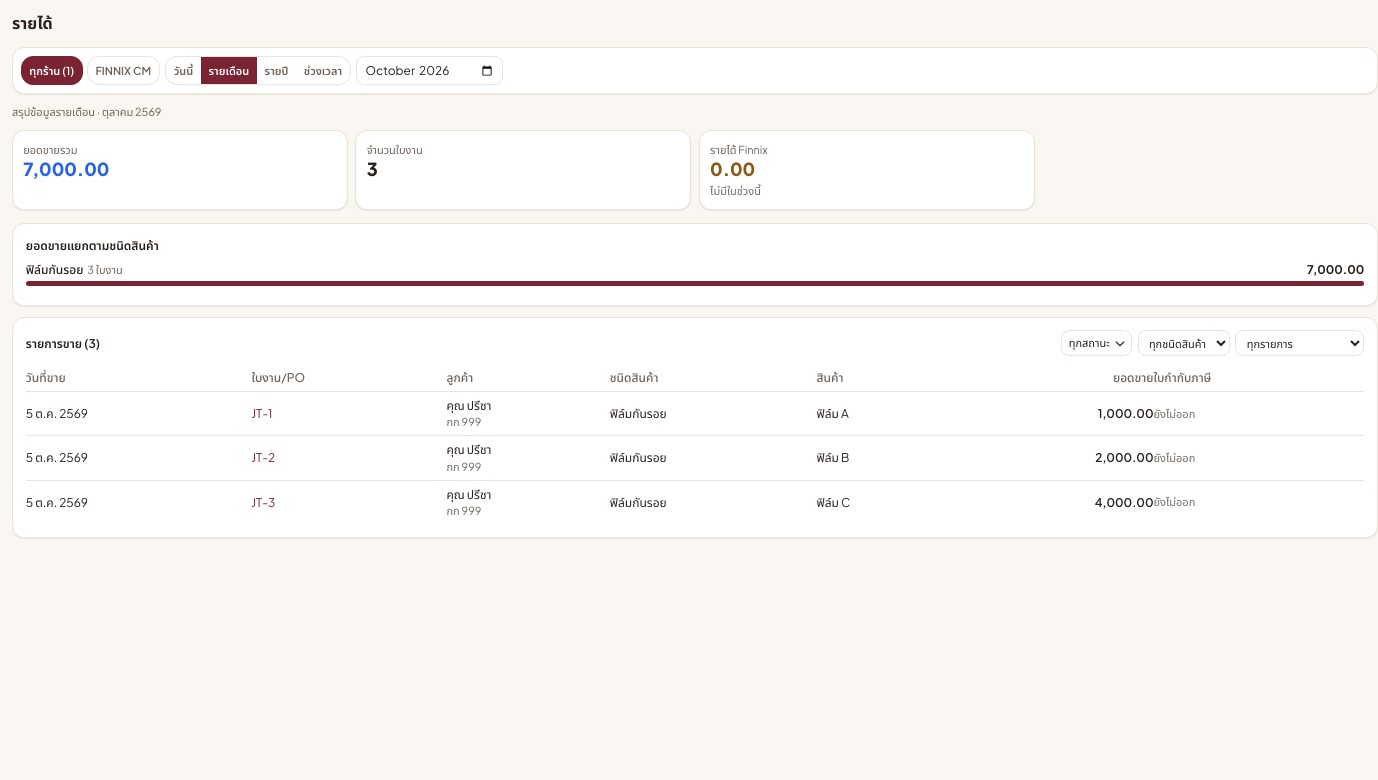
Test case: RevenueModule — กรองตามสถานะงาน › เลือกสองสถานะพร้อมกัน ได้ทั้งสอง
Click the button with aria-label "กรองตามสถานะงาน".
click(1097, 343)  # box [1061,330,1132,356]
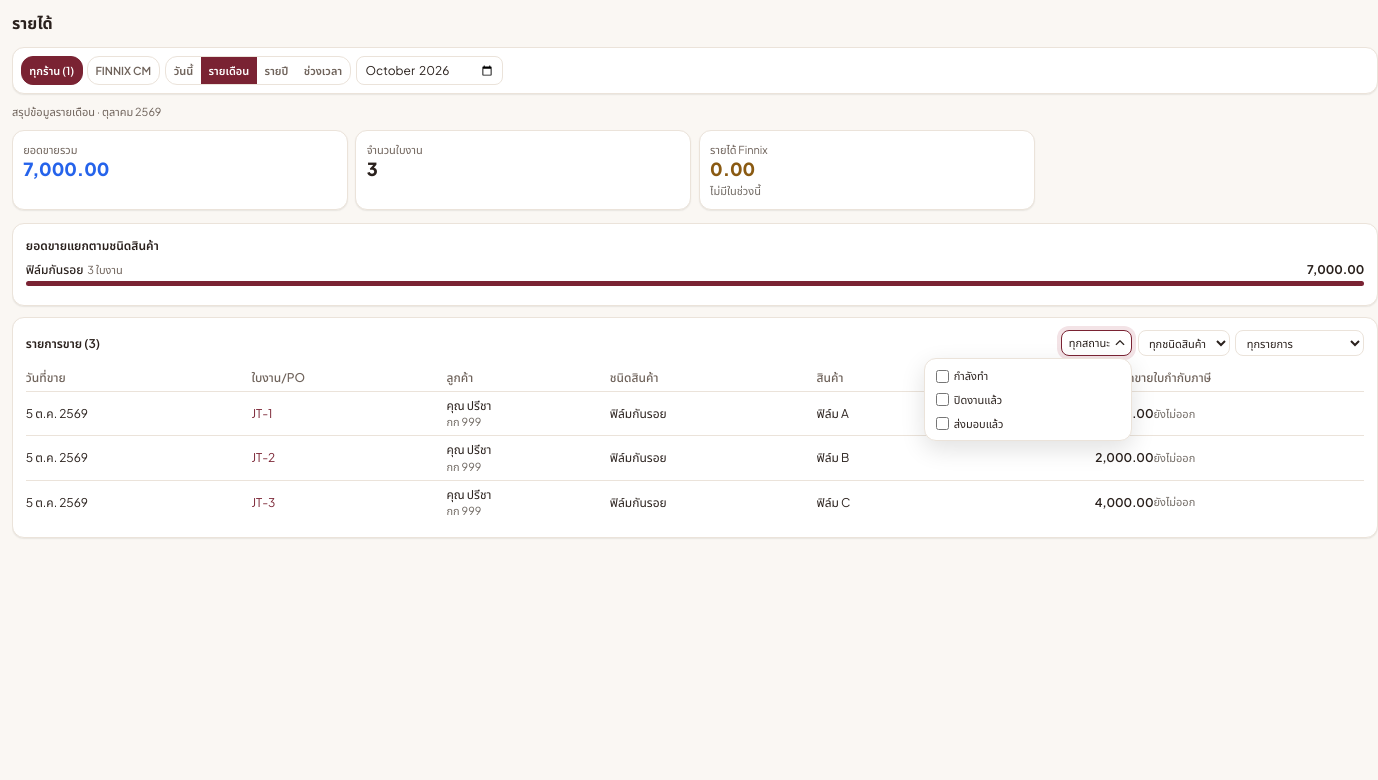
Click the checkbox labelled "ส่งมอบแล้ว".
click(942, 423)  # box [936,417,949,430]
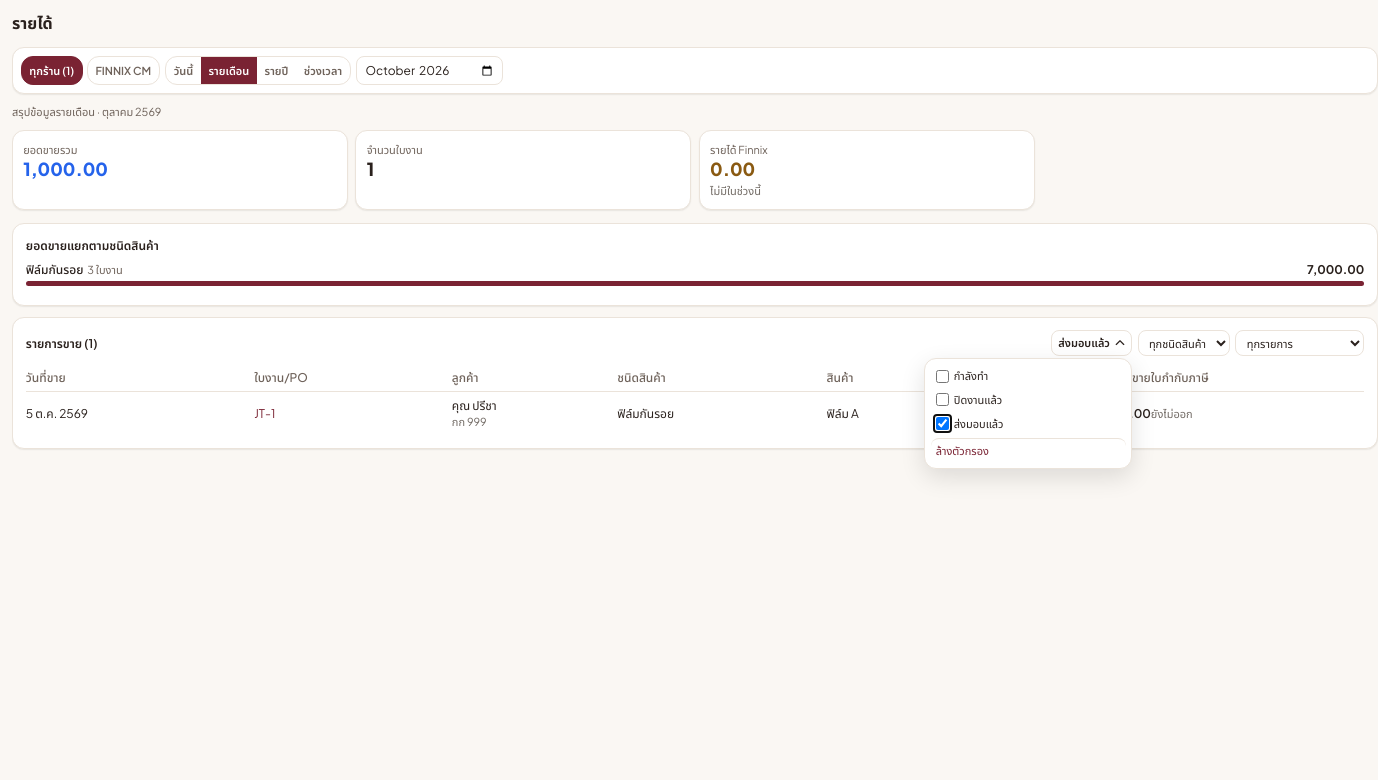
Click the checkbox labelled "ปิดงานแล้ว".
click(942, 400)  # box [936,393,949,406]
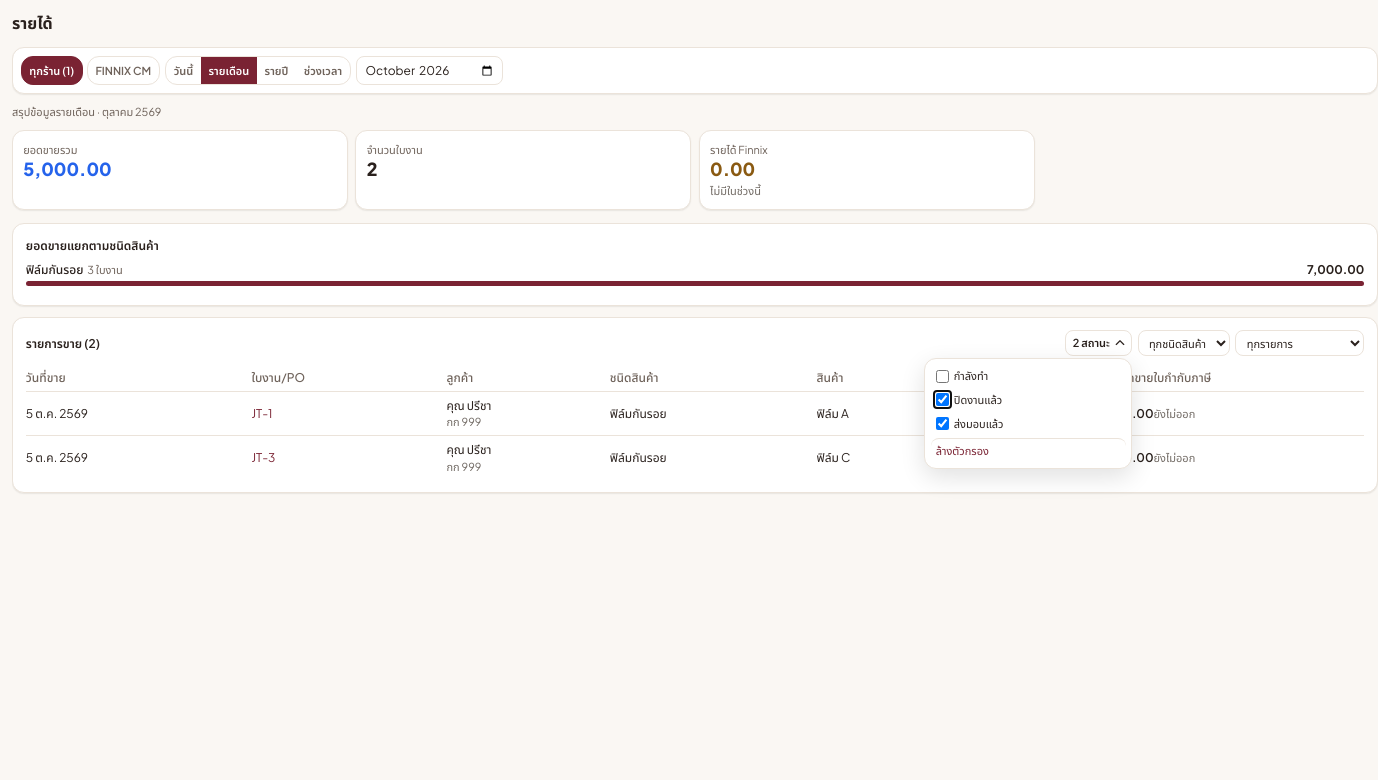
Expected: the text "ฟิล์ม A" is shown, [817,392,940,436]
Result: the text "รายการขาย (2)" is shown at [26,334,100,352]
Result: the text "ฟิล์ม C" is shown at [817,436,940,480]
